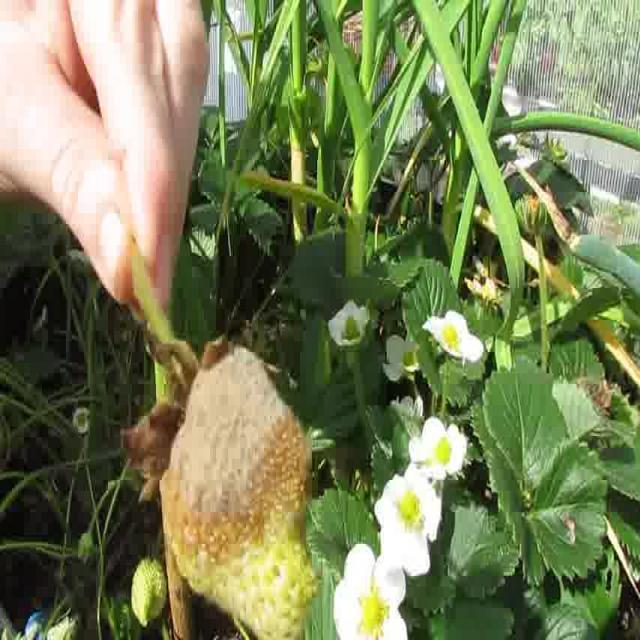Fruta sana: (131, 560, 168, 627), (76, 532, 94, 564)
Moho gris: (158, 341, 322, 640)
